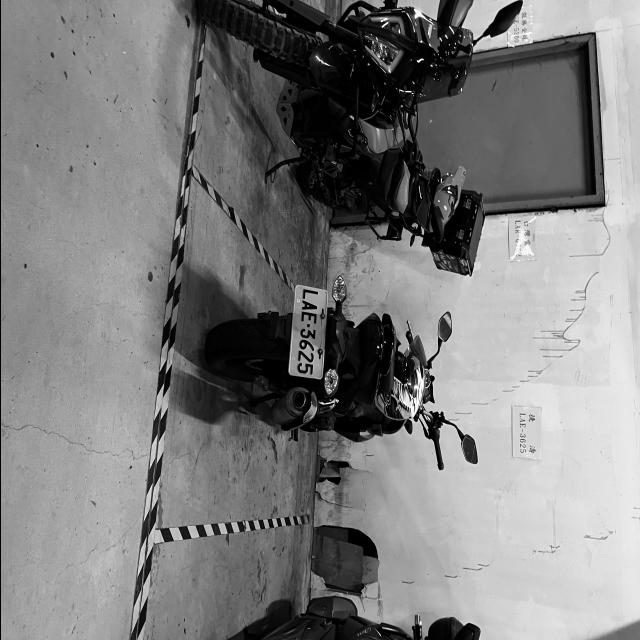-: (306, 323, 310, 329)
2: (297, 351, 315, 363)
3: (300, 329, 316, 339)
5: (296, 363, 314, 375)
6: (298, 340, 316, 351)
A: (300, 300, 318, 311)
E: (300, 312, 318, 324)
L: (301, 289, 319, 299)
plate: (289, 284, 326, 379)
